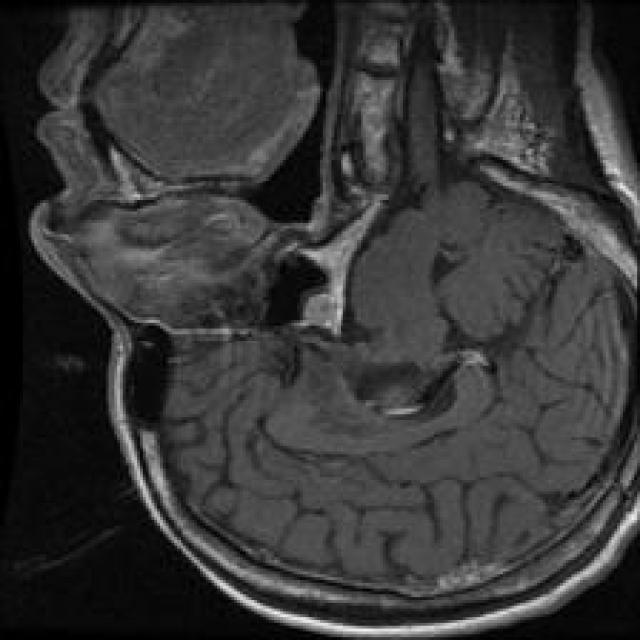pituitary_tumor: (285, 276, 364, 353)
